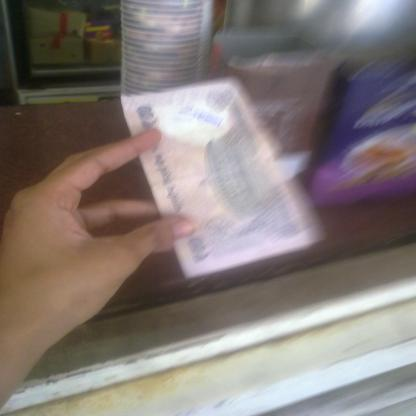Old50Back: (120, 77, 323, 279)
